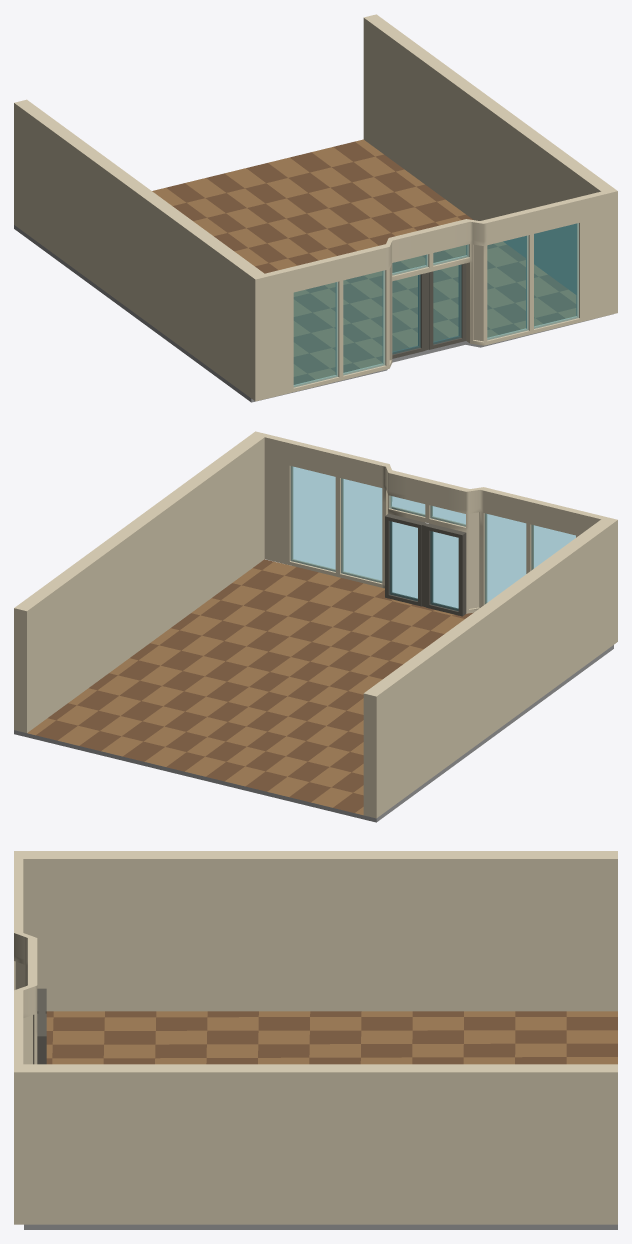
The model's file is Room.fbx.
3 views of the same model, one above another, from view 1: azimuth 30°, elevation 25°; view 2: azimuth 150°, elevation 25°; view 3: azimuth 270°, elevation 25° (orthographic). The views are drawn at different scales.
Visible parts, largest first — view 1: pCube3, Front_Wall2, pCube4, pCube1, LDoor, RDoor; view 2: pCube3, pCube4, pCube1, Front_Wall2, RDoor, LDoor; view 3: pCube1, pCube4, pCube3, Front_Wall2, LDoor.
Boxes of the visible parts, <box> form: pCube3: <box>14,139,613,402</box>; Front_Wall2: <box>251,189,617,401</box>; pCube4: <box>14,99,265,398</box>; pCube1: <box>363,14,615,294</box>; LDoor: <box>427,263,466,349</box>; RDoor: <box>392,273,426,358</box>; pCube3: <box>14,559,613,822</box>; pCube4: <box>363,518,614,818</box>; pCube1: <box>14,433,264,732</box>; Front_Wall2: <box>252,431,617,643</box>; RDoor: <box>424,523,466,616</box>; LDoor: <box>385,513,426,606</box>; pCube1: <box>19,1064,617,1224</box>; pCube4: <box>19,851,617,1011</box>; pCube3: <box>24,1011,617,1229</box>; Front_Wall2: <box>14,851,37,1224</box>; LDoor: <box>37,1012,46,1064</box>.
Size of the model in its own units: 28 by 9.3 by 32.31.
